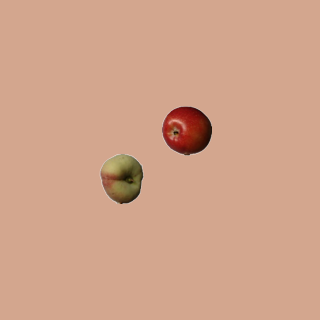Apple Braeburn: (161, 105, 211, 155)
Peach Flat: (96, 153, 146, 203)
